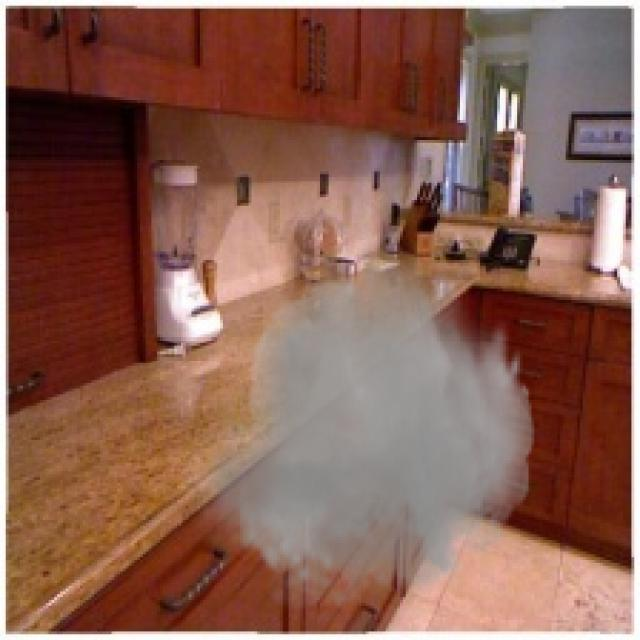Smoke: (180, 225, 543, 626)
